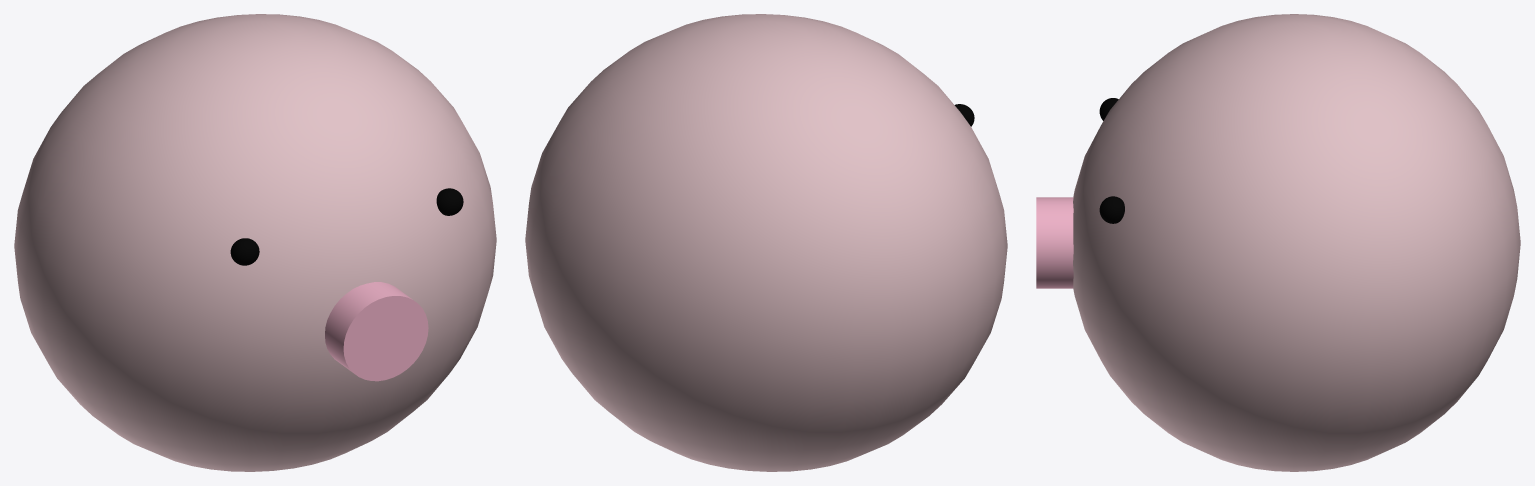
File: shwetha.glb
The picture shows the model from 3 angles, left to right: view 1: azimuth 30°, elevation 25°; view 2: azimuth 150°, elevation 25°; view 3: azimuth 270°, elevation 25°; orthographic projection.
Size of the model in its own units: 6.38 by 5.95 by 6.37.
